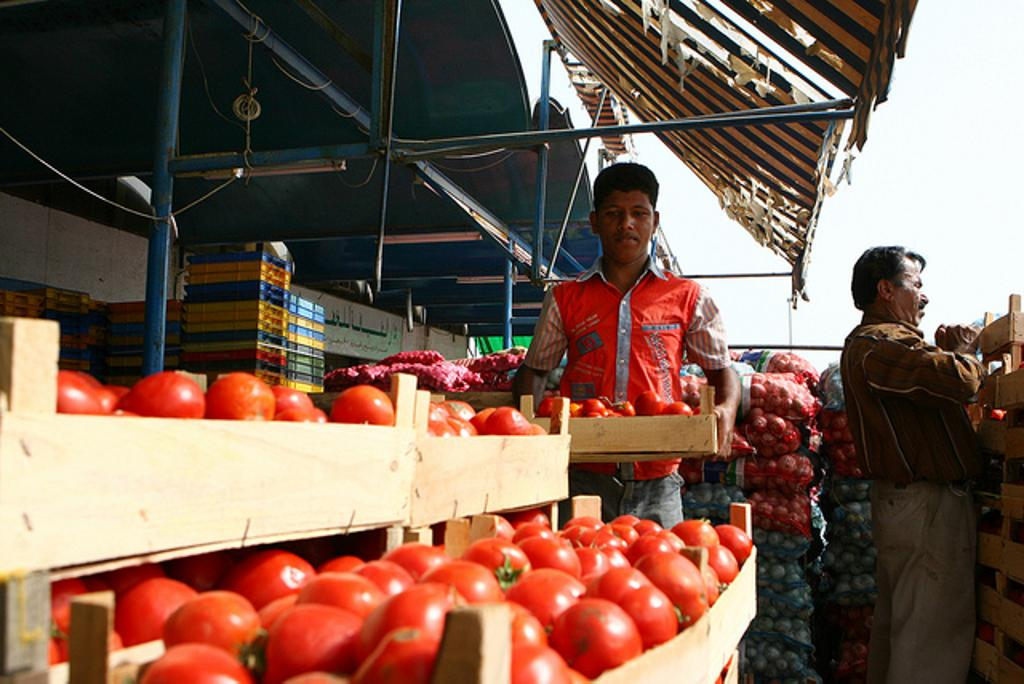face: (598, 189, 654, 262), (892, 256, 928, 325)
